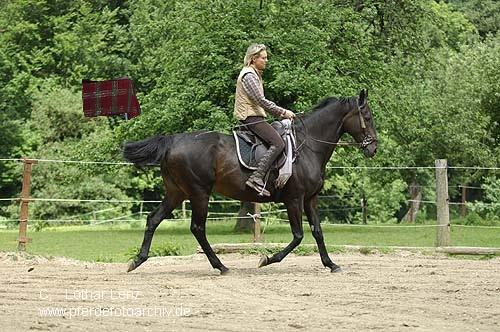tampered: (83, 77, 141, 120)
